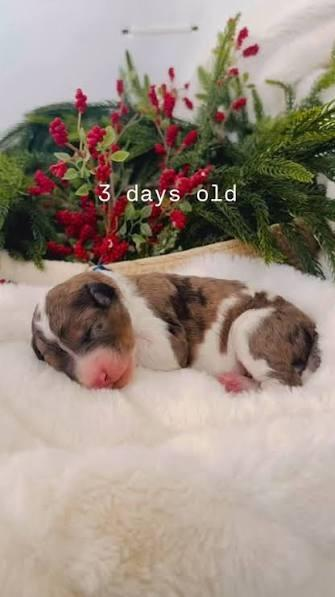puppy-dog: (26, 268, 323, 395)
